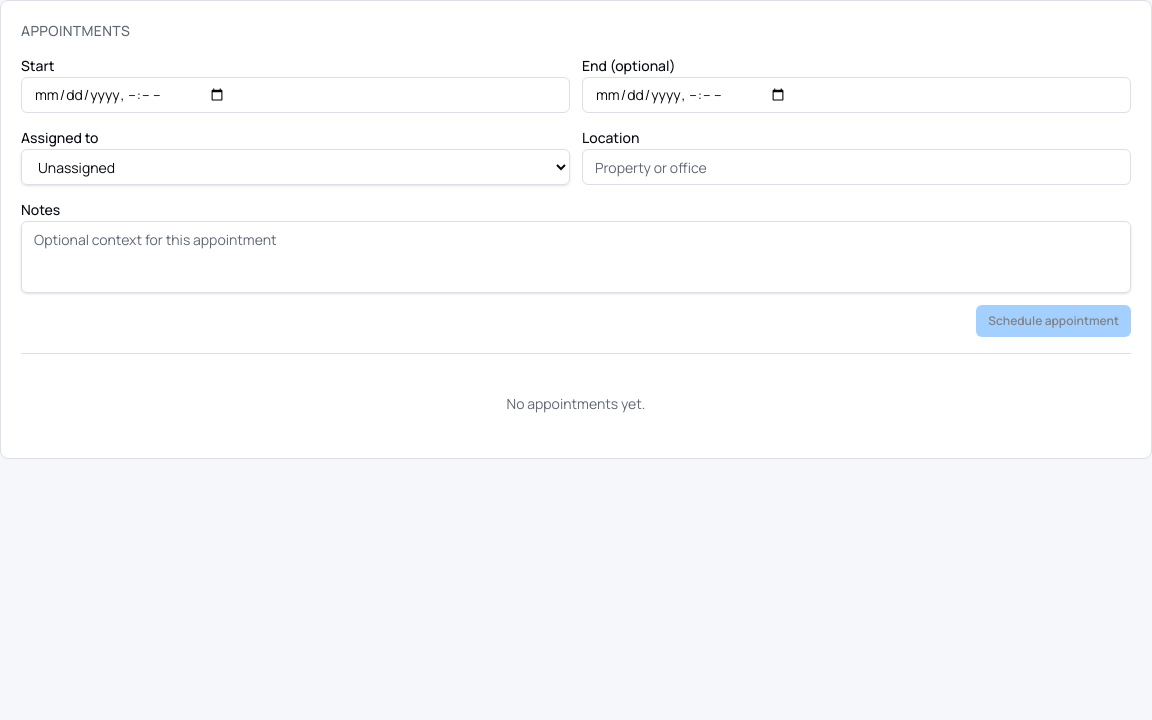
Scenario: AppointmentList › creates an appointment and refreshes
This screenshot has width=1152, height=720.
Expected: the text "No appointments yet." is shown, [507,394,645,413]
In the field labelled "Start": (296, 95) [21,77,570,113], type "2026-08-22T10:00"
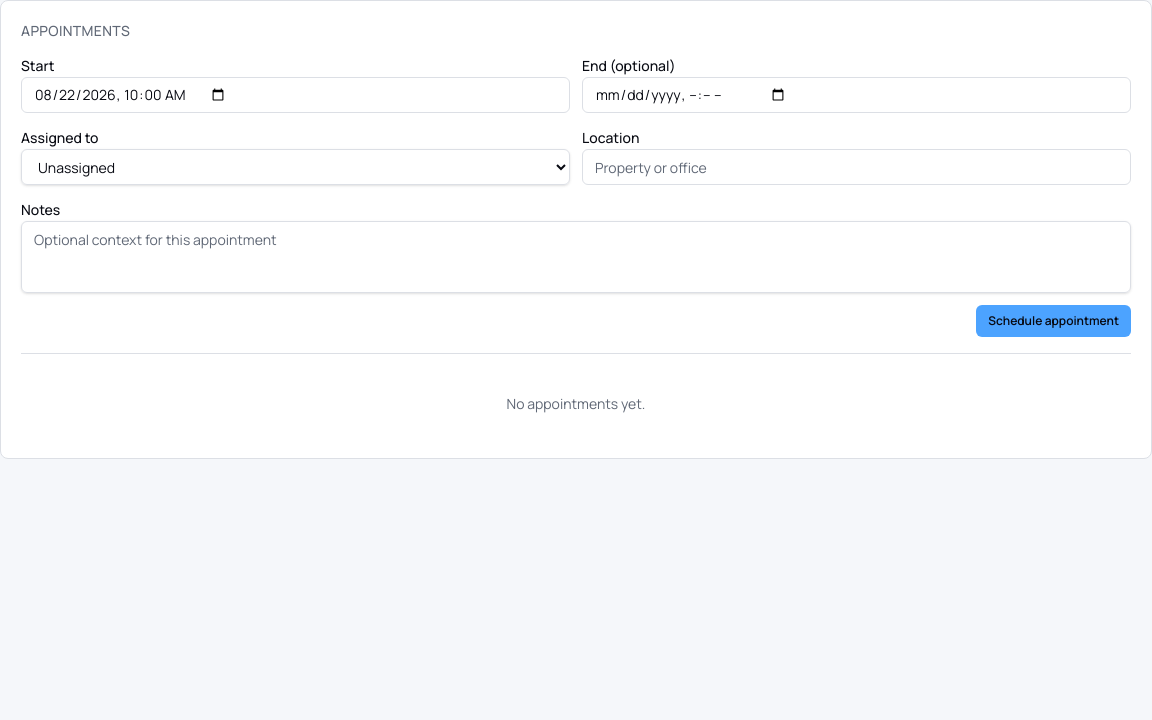
In the field labelled "Location": (856, 167) [582,149,1131,185], type "Marina"
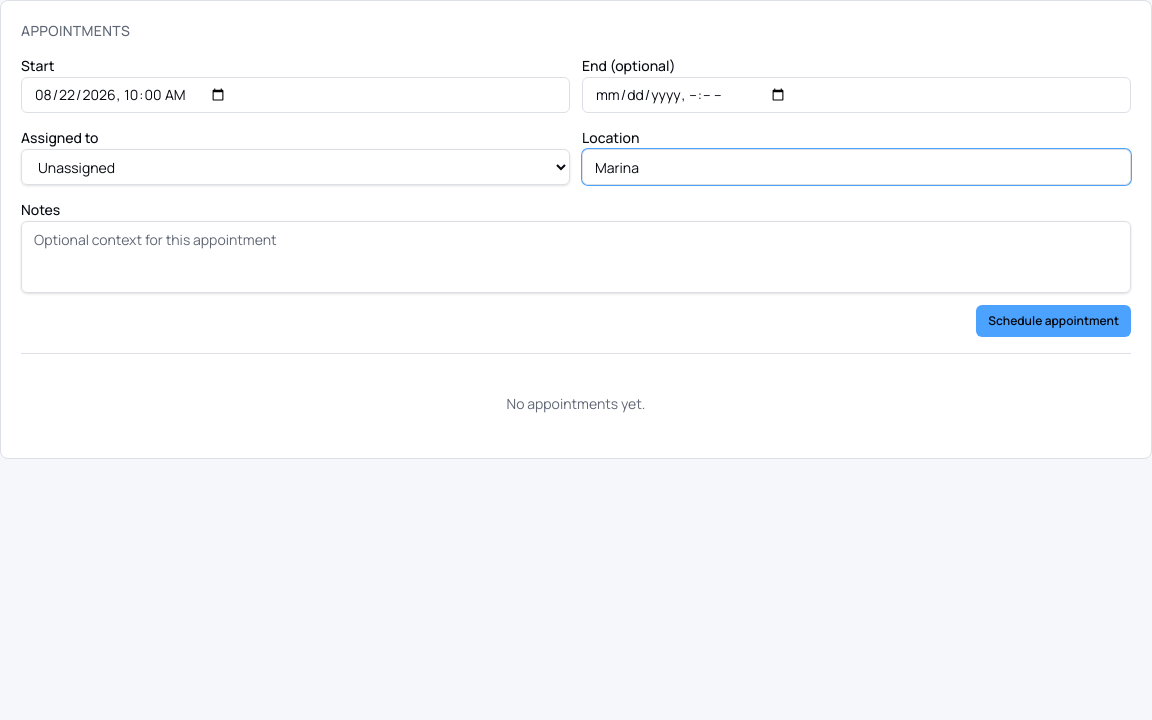
Click the button "Schedule appointment": click(1054, 321) [976,305,1131,337]
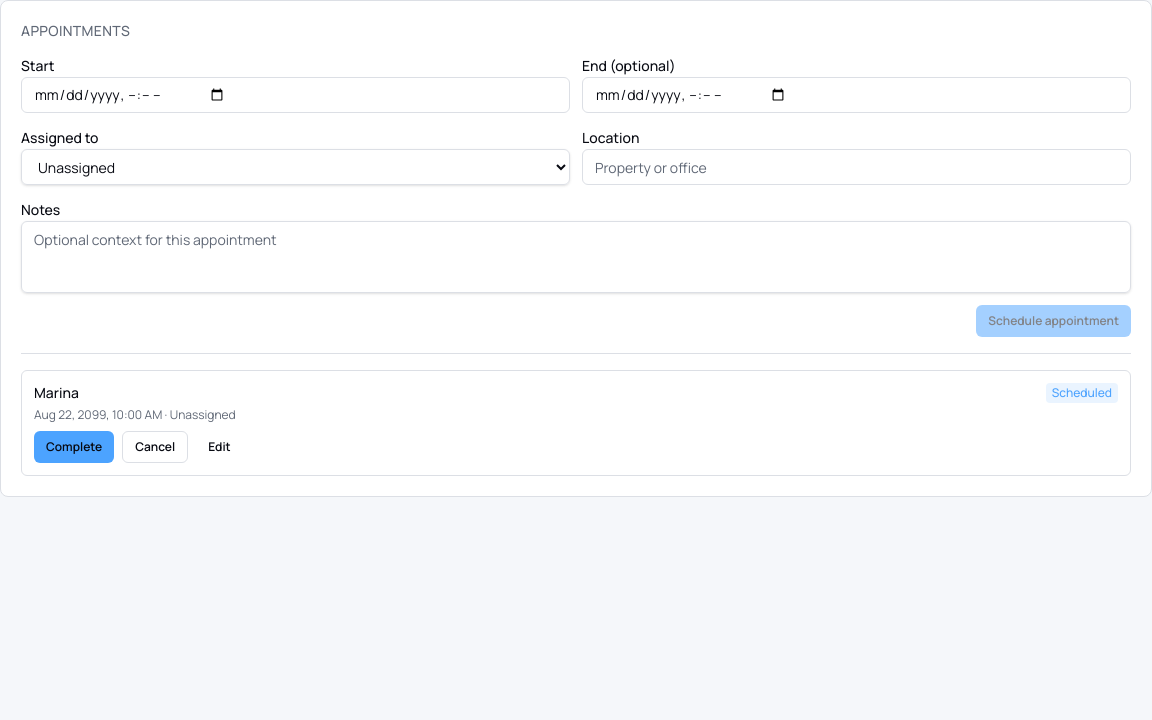
Now the text "Marina" is shown, box [34,383,79,402]
